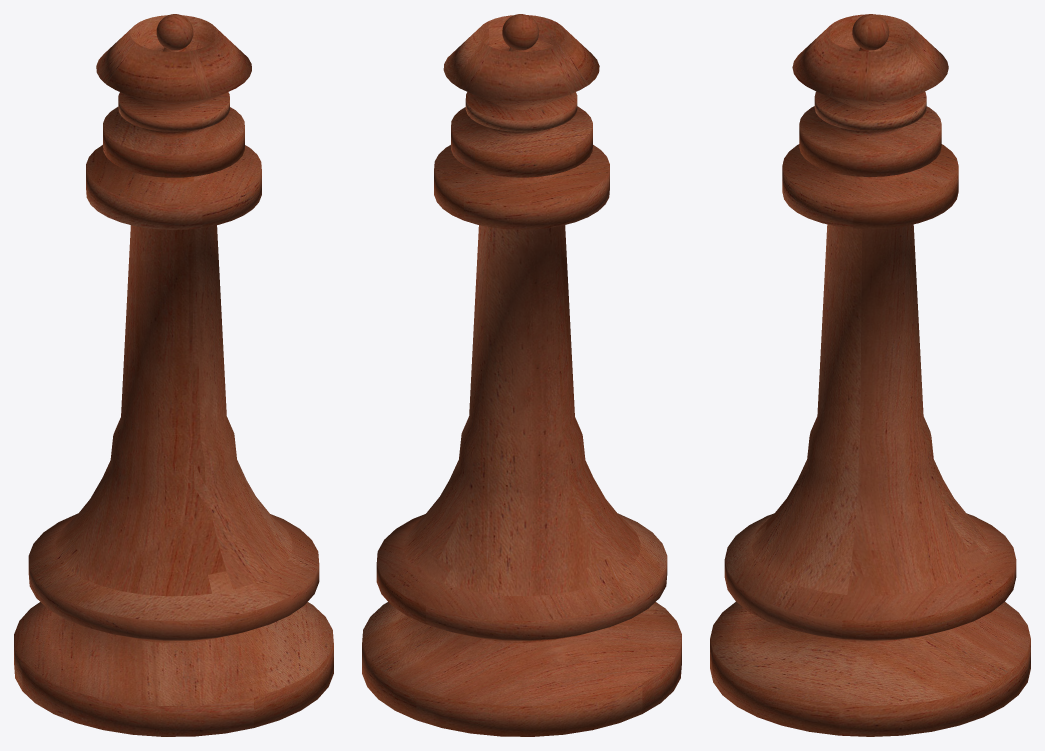
Rendered from queen.obj.
The picture shows the model from 3 angles, left to right: view 1: azimuth 30°, elevation 25°; view 2: azimuth 150°, elevation 25°; view 3: azimuth 270°, elevation 25°; orthographic projection.
Parts seen in each view (by area): view 1: Queen_Krolowa_Cylinder.005; view 2: Queen_Krolowa_Cylinder.005; view 3: Queen_Krolowa_Cylinder.005.
Boxes of the visible parts, x1,y1,x2,y2 form: Queen_Krolowa_Cylinder.005: (14,14,333,736); Queen_Krolowa_Cylinder.005: (362,14,681,736); Queen_Krolowa_Cylinder.005: (710,14,1030,736).
Bounding box in the file's own units: 0.32 × 0.72 × 0.32.
